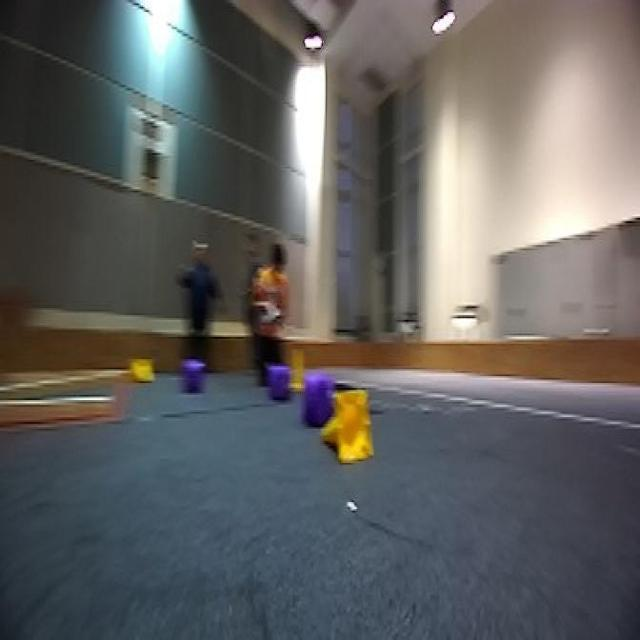frc_cone: (324, 386, 378, 466), (288, 342, 314, 393), (132, 359, 156, 390)
frc_cube: (304, 370, 341, 432), (263, 359, 290, 400), (183, 354, 205, 393)
